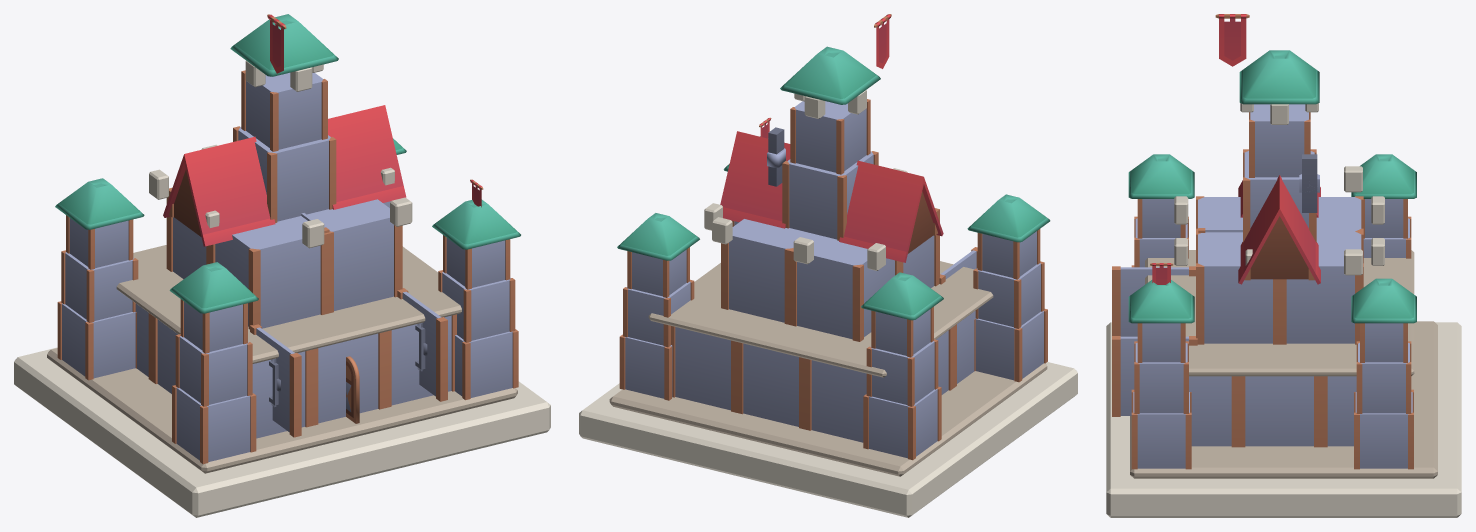
Rendered from european-keep.glb.
3 views of the same model, side by side, from view 1: azimuth 30°, elevation 25°; view 2: azimuth 150°, elevation 25°; view 3: azimuth 270°, elevation 25° (orthographic). The views are drawn at different scales.
Parts seen in each view (by area): view 1: keep; view 2: keep; view 3: keep.
Boxes of the visible parts, x1,y1,x2,y2 form: keep: (14,14,550,517); keep: (579,14,1077,517); keep: (1106,14,1461,517).
Size of the model in its own units: 2.3 by 2.55 by 2.03.
46 materials, 41 textured.
